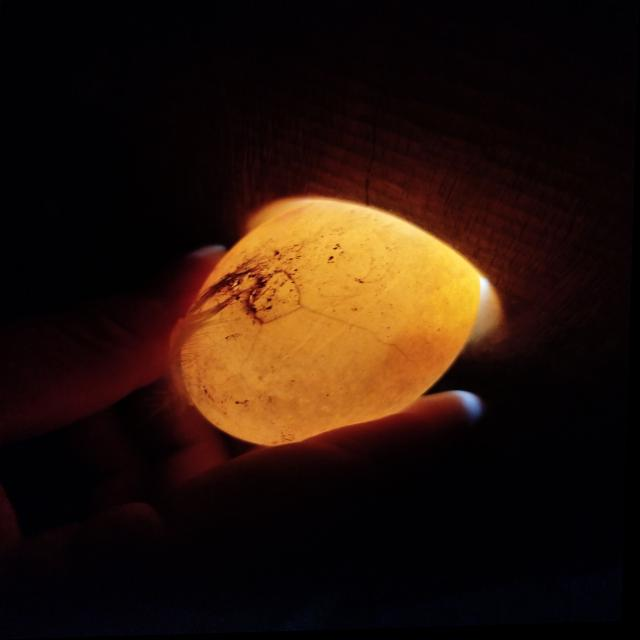Rachadura: (250, 272, 416, 365)
